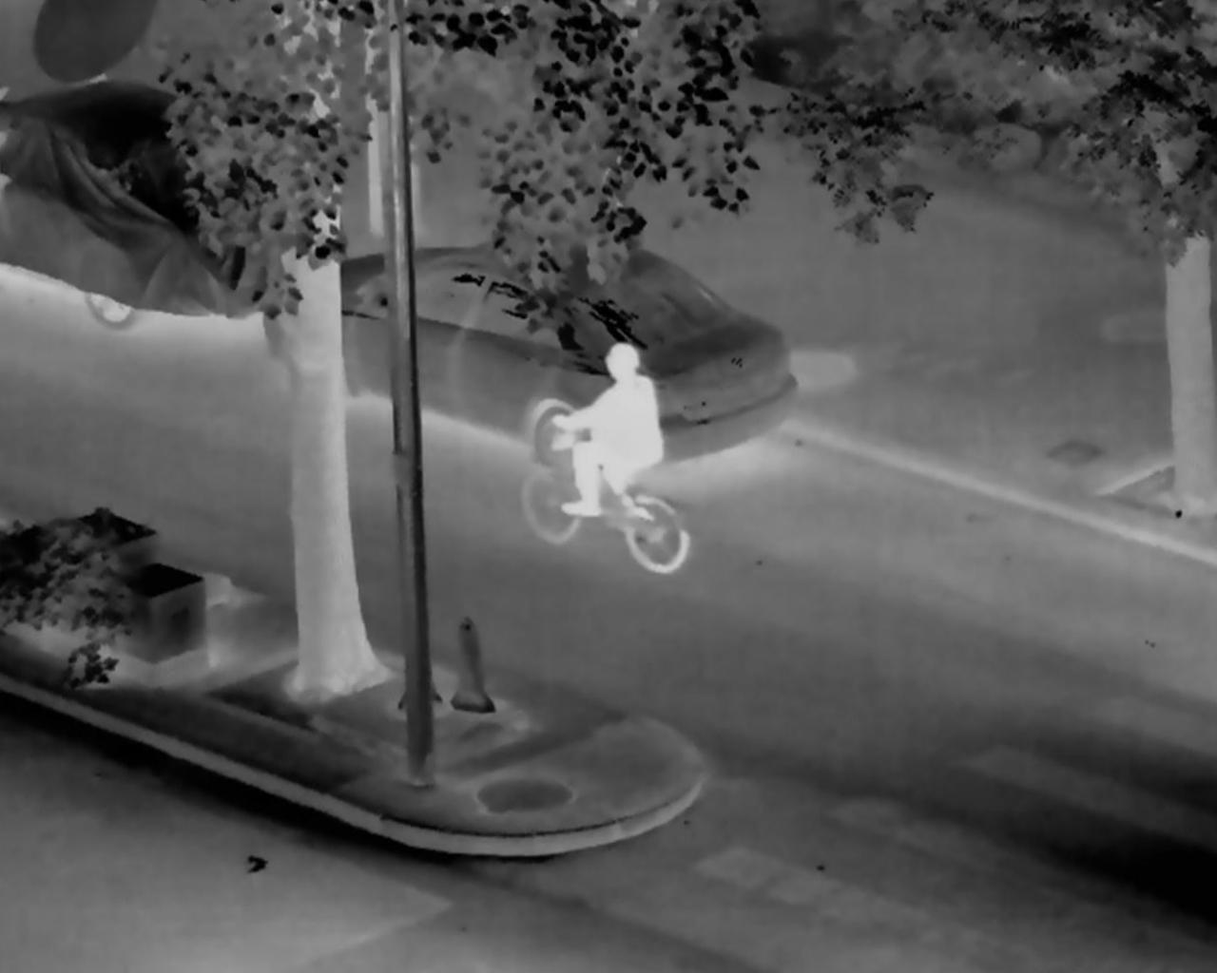person: (552, 341, 666, 519)
